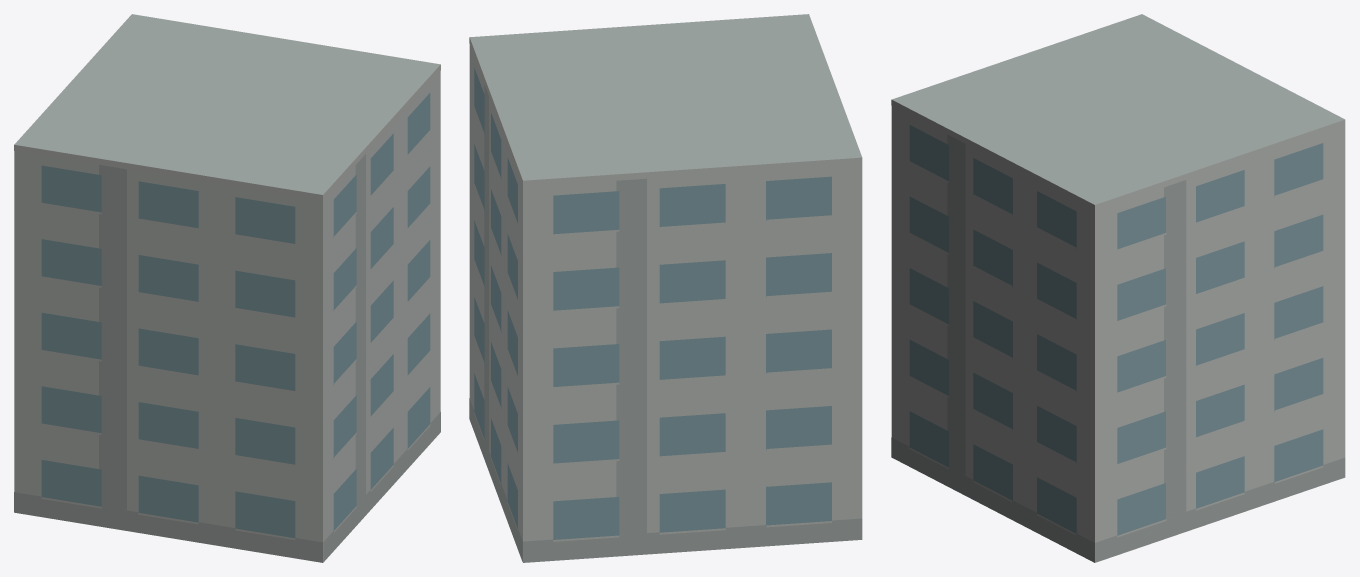
Rendered from survey-upis-32746258.glb.
The picture shows the model from 3 angles, left to right: view 1: azimuth 30°, elevation 25°; view 2: azimuth 150°, elevation 25°; view 3: azimuth 270°, elevation 25°; orthographic projection. The views are drawn at different scales.
Parts seen in each view (by area): view 1: survey-upis-32746258.tmp; view 2: survey-upis-32746258.tmp; view 3: survey-upis-32746258.tmp.
Part boxes in pixels (<box>): survey-upis-32746258.tmp: <box>14,14,440,562</box>; survey-upis-32746258.tmp: <box>469,14,862,562</box>; survey-upis-32746258.tmp: <box>891,14,1345,562</box>.
Size of the model in its own units: 16.6 by 14.5 by 16.67.
